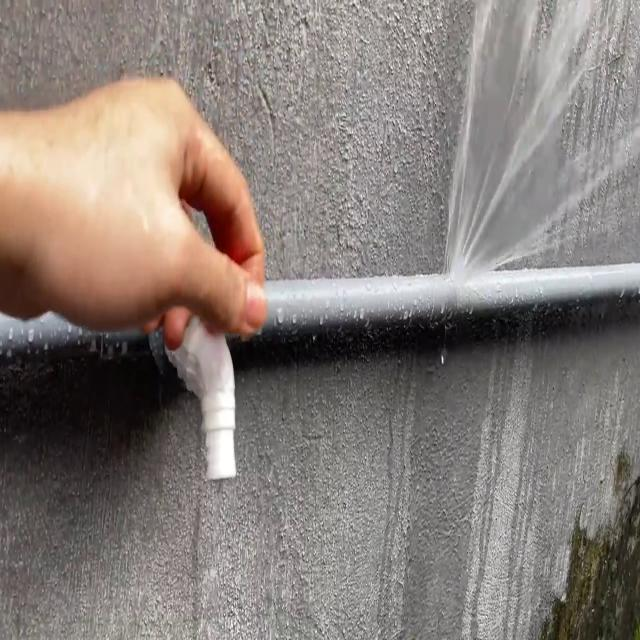leak: (442, 0, 640, 277)
